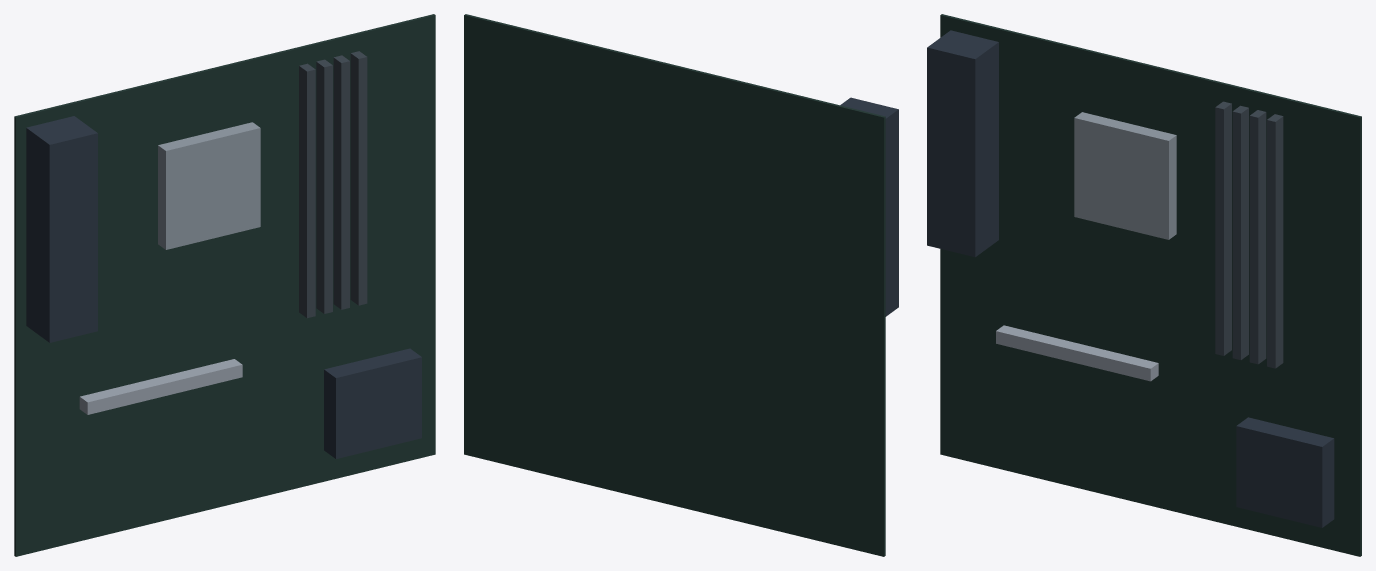
File: retail-msi-pro-b650m-a-wifi.glb
3 renders of one model, left to right at view 1: azimuth 30°, elevation 25°; view 2: azimuth 150°, elevation 25°; view 3: azimuth 330°, elevation 25°, orthographic.
Visible parts, largest first — view 1: PCB, DIMM slot (×4), I/O heatsink, Socket envelope, Chipset heatsink, PCIe slot; view 2: PCB, I/O heatsink; view 3: PCB, DIMM slot (×4), I/O heatsink, Socket envelope, Chipset heatsink, PCIe slot.
Part boxes in pixels (box(x1,y1,x2,y2)): PCB: box(14, 14, 435, 556); DIMM slot (×4): box(299, 51, 367, 318); I/O heatsink: box(26, 116, 97, 342); Socket envelope: box(158, 122, 260, 249); Chipset heatsink: box(324, 348, 421, 458); PCIe slot: box(79, 359, 242, 414); PCB: box(464, 14, 885, 556); I/O heatsink: box(840, 97, 898, 316); PCB: box(940, 14, 1361, 556); DIMM slot (×4): box(1215, 101, 1283, 368); I/O heatsink: box(927, 30, 998, 257); Socket envelope: box(1074, 112, 1176, 239); Chipset heatsink: box(1236, 417, 1334, 527); PCIe slot: box(996, 325, 1158, 381).
Bounding box in the file's own units: 0.244 × 0.244 × 0.0253.
